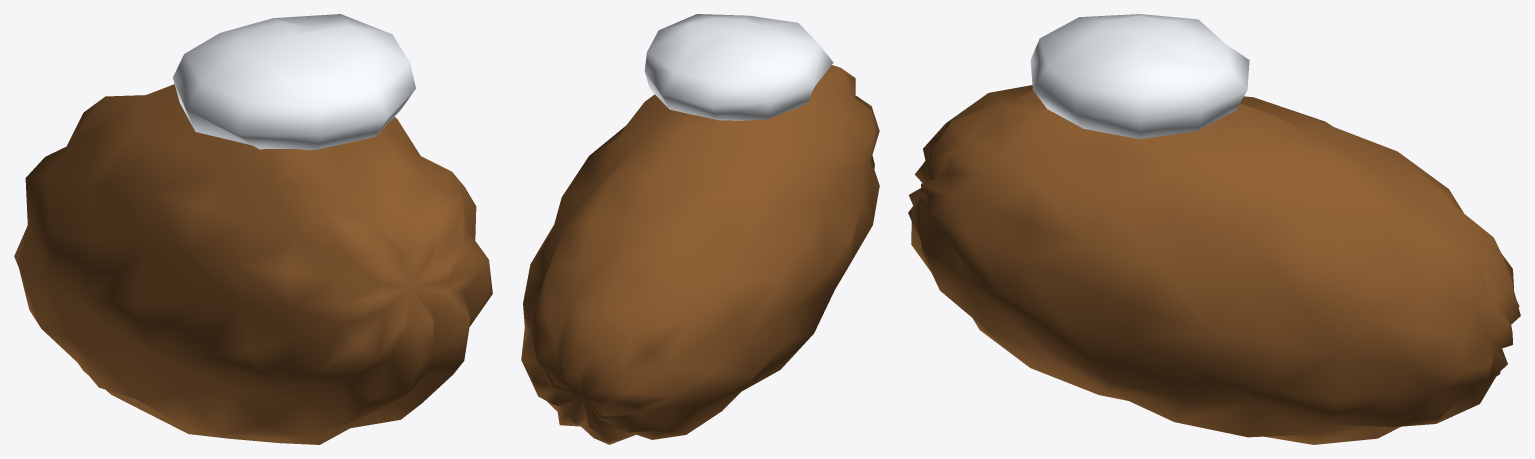
The model's file is MiniBoss_Pin_Gonflable_Eau_Projectile_Pomme.fbx.
3 renders of one model, left to right at view 1: azimuth 30°, elevation 25°; view 2: azimuth 150°, elevation 25°; view 3: azimuth 270°, elevation 25°, orthographic. The views are drawn at different scales.
Visible parts, largest first — view 1: MiniBoss_Pin_Gonflable_Eau_Projectile_Pomme; view 2: MiniBoss_Pin_Gonflable_Eau_Projectile_Pomme; view 3: MiniBoss_Pin_Gonflable_Eau_Projectile_Pomme.
Boxes of the visible parts, bbox=[...] form: MiniBoss_Pin_Gonflable_Eau_Projectile_Pomme: bbox=[14, 14, 492, 444]; MiniBoss_Pin_Gonflable_Eau_Projectile_Pomme: bbox=[521, 14, 879, 444]; MiniBoss_Pin_Gonflable_Eau_Projectile_Pomme: bbox=[908, 14, 1520, 444].
Bounding box in the file's own units: 0.3697 × 0.4694 × 0.6621.
1 material, 1 textured.
